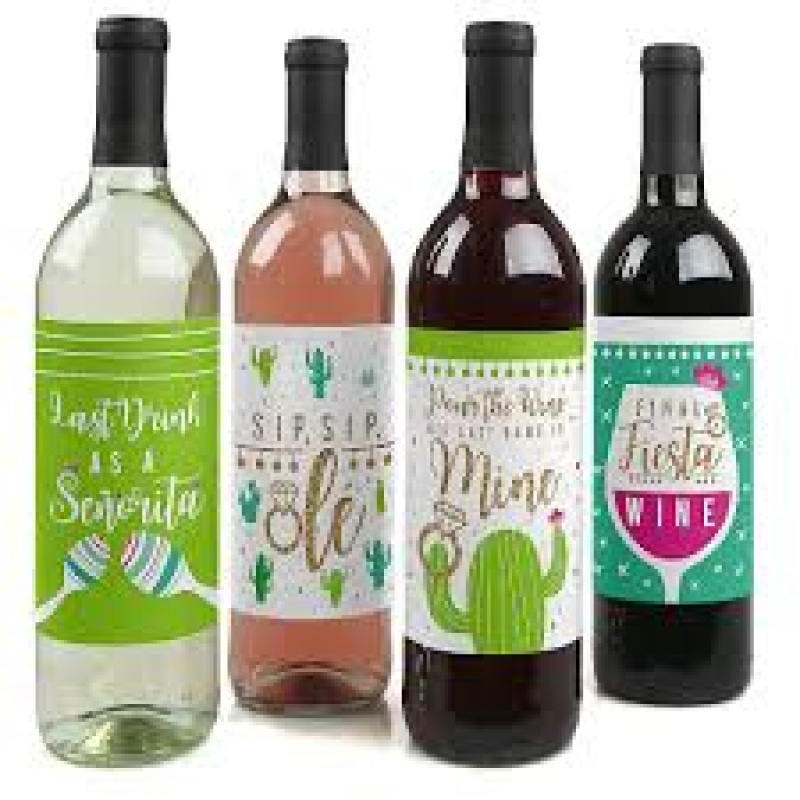wine: (402, 36, 578, 753), (33, 102, 222, 747), (236, 80, 391, 714), (591, 121, 758, 705)
